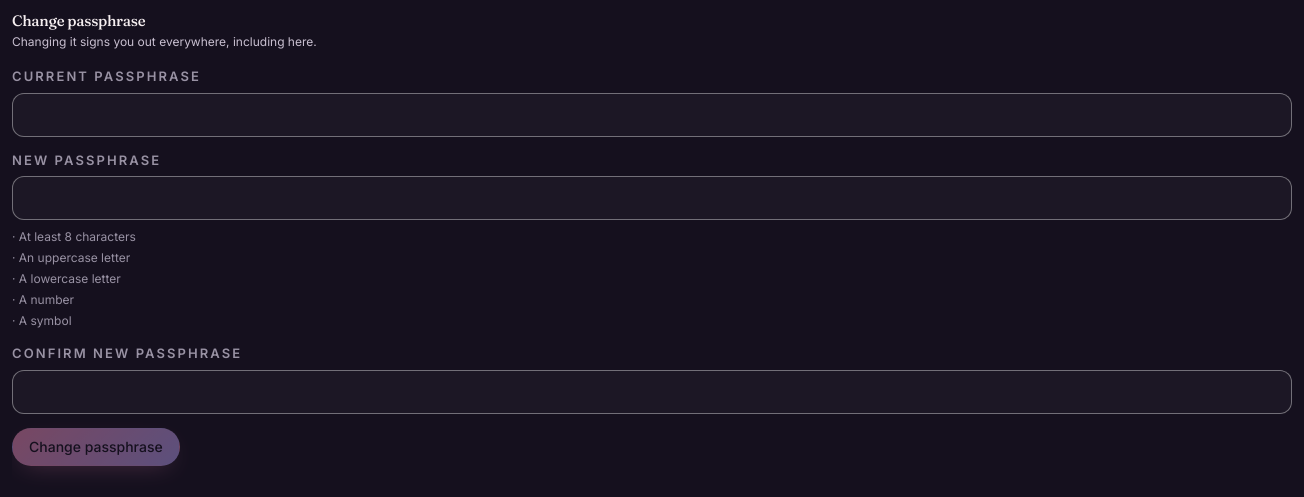
validation is the SERVER’s job › enables submit for a weak passphrase — the server decides, not us
Type "old-one" into the password field labelled "Current passphrase" at (652, 115), box [12,93,1292,137]
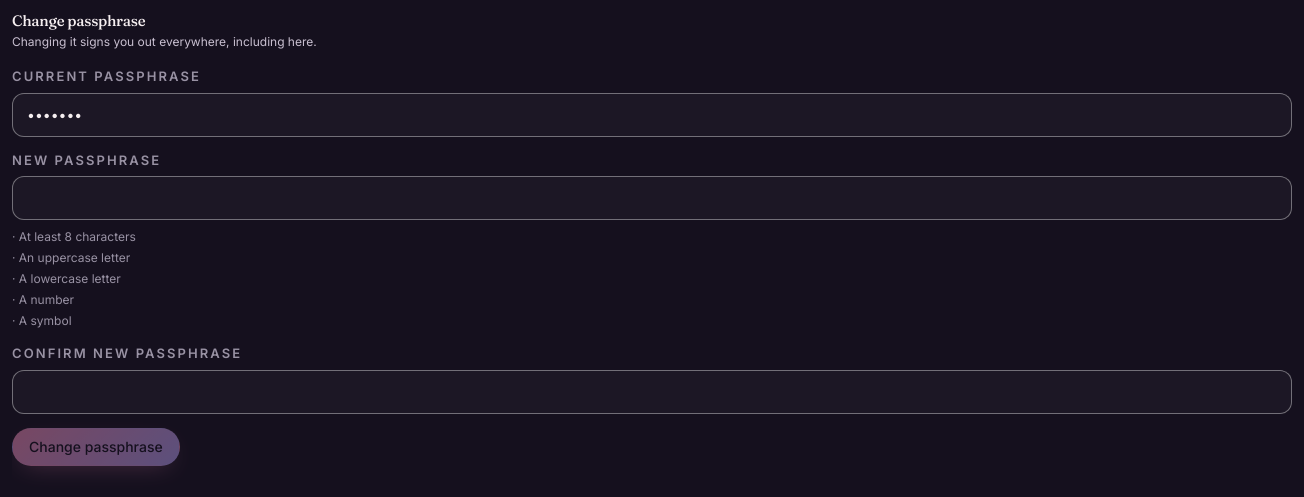
Type "abc" into the password field labelled "New passphrase" at (652, 198), box [12,176,1292,220]
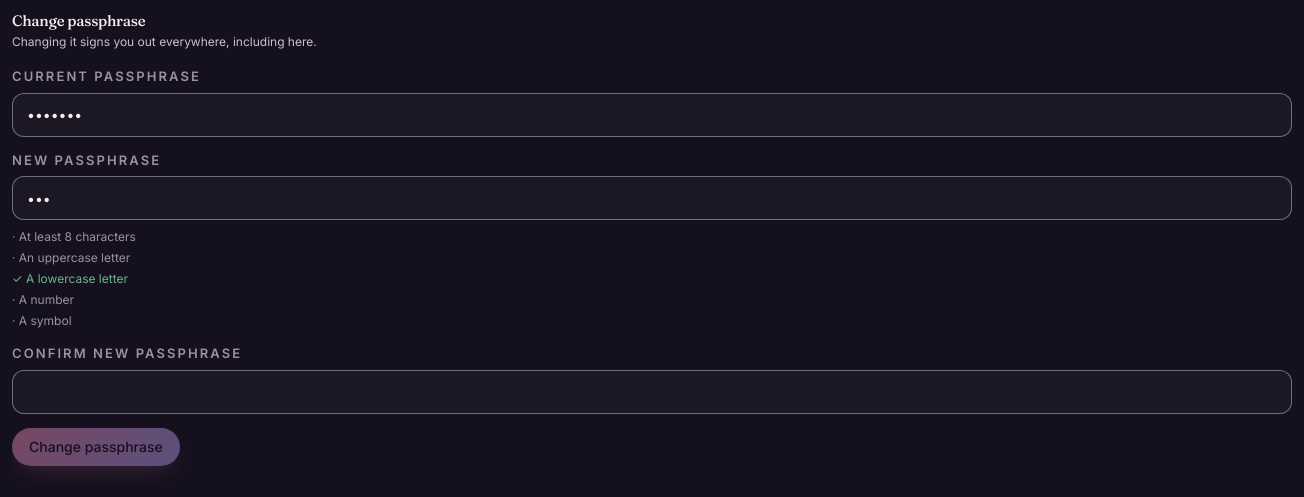
Type "abc" into the password field labelled "Confirm new passphrase" at (652, 392), box [12,370,1292,414]
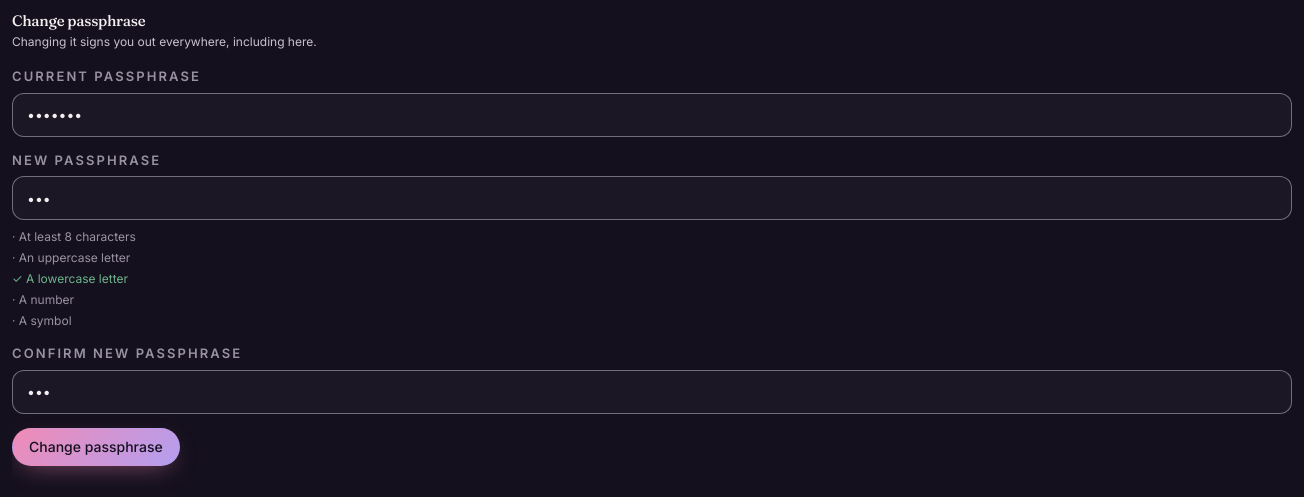
Check: the button "Change passphrase" is enabled, box [12,428,180,466]
